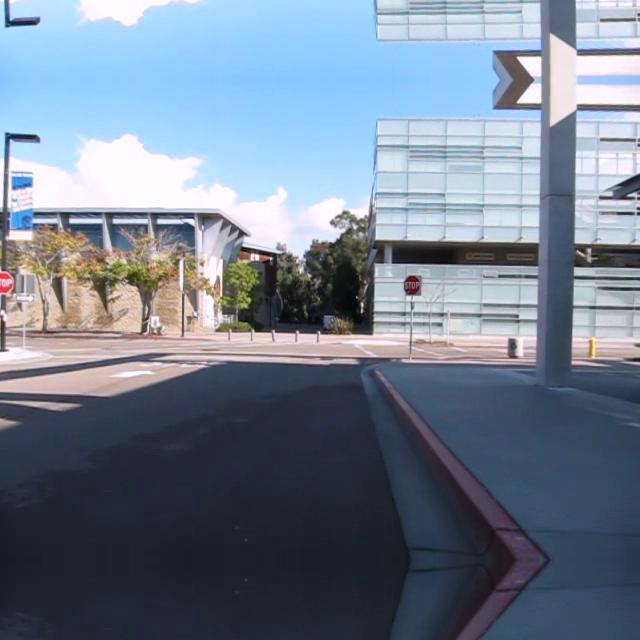stop: (403, 274, 421, 296)
